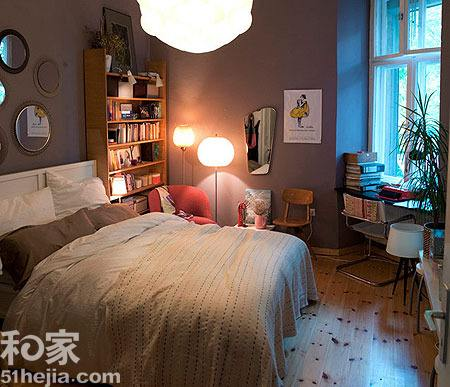床: (0, 205, 324, 376)
枕头: (3, 177, 112, 231)
灯: (140, 5, 254, 58), (192, 133, 242, 226), (169, 122, 197, 156)
